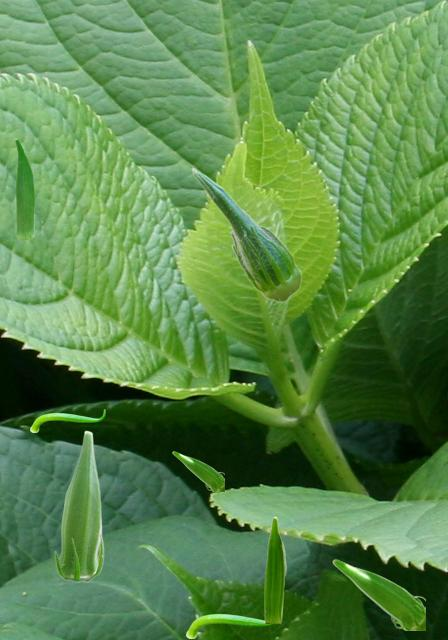okra: (191, 167, 301, 301), (54, 430, 103, 581), (332, 559, 424, 629), (264, 516, 285, 622), (186, 613, 275, 637), (172, 451, 223, 490), (15, 138, 33, 238), (30, 409, 104, 431)
